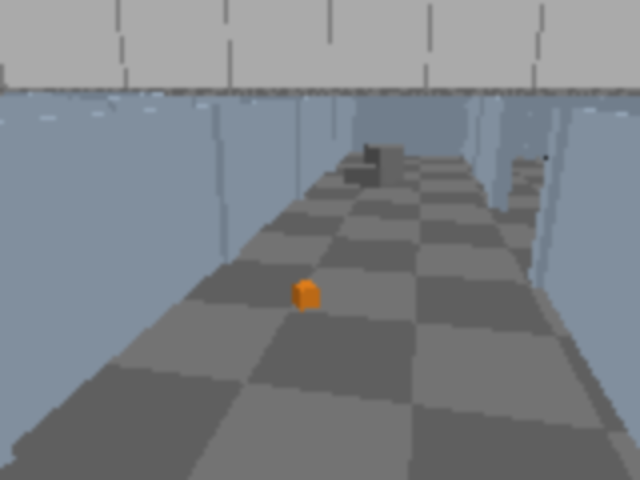obstacle: (363, 144, 405, 184)
puck: (292, 280, 318, 311)
